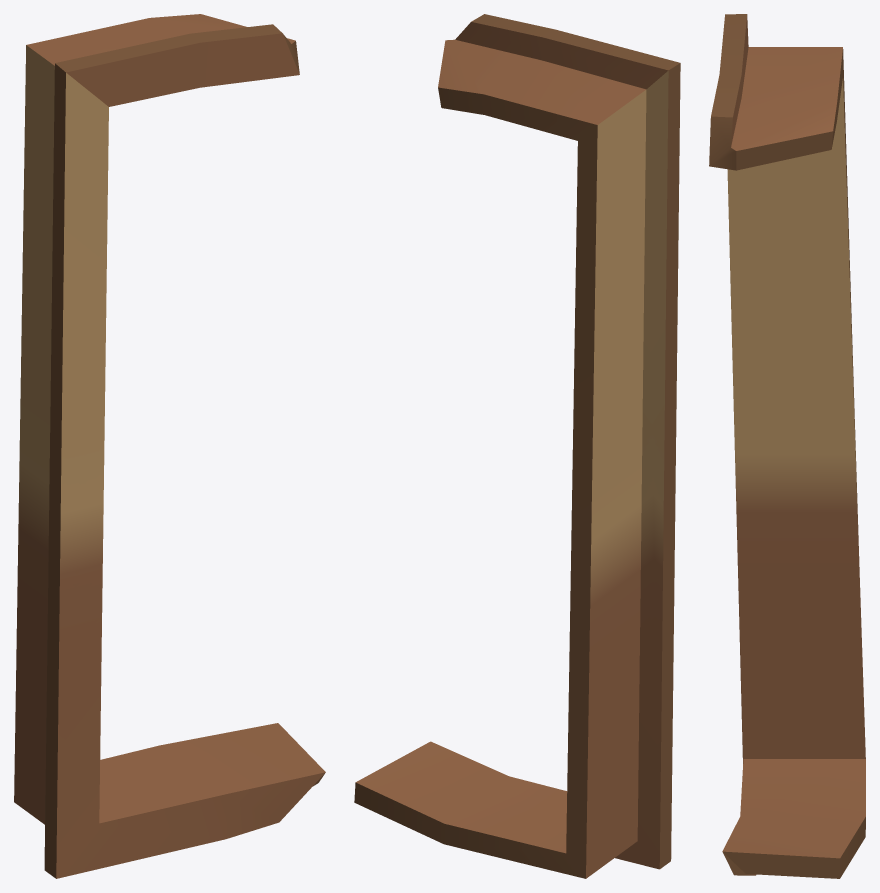
Rendered from DBK_WinSmall_Trim_A_Side.fbx.
3 views of the same model, side by side, from view 1: azimuth 30°, elevation 25°; view 2: azimuth 150°, elevation 25°; view 3: azimuth 270°, elevation 25° (orthographic). The views are drawn at different scales.
Parts seen in each view (by area): view 1: DBK_WinSmall_Trim_A_Side; view 2: DBK_WinSmall_Trim_A_Side; view 3: DBK_WinSmall_Trim_A_Side.
Part boxes in pixels (<box>): DBK_WinSmall_Trim_A_Side: <box>14,14,325,878</box>; DBK_WinSmall_Trim_A_Side: <box>354,14,680,878</box>; DBK_WinSmall_Trim_A_Side: <box>709,14,865,878</box>.
Size of the model in its own units: 47.24 by 134 by 24.78.
